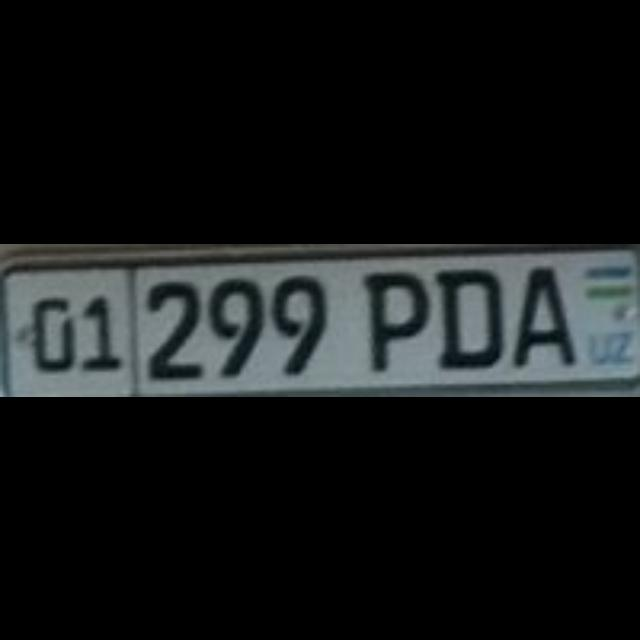0: (29, 294, 71, 368)
1: (77, 290, 119, 368)
2: (140, 278, 202, 378)
9: (205, 276, 263, 374), (268, 272, 320, 371)
A: (509, 262, 573, 362)
D: (435, 266, 499, 368)
P: (362, 268, 428, 368)
